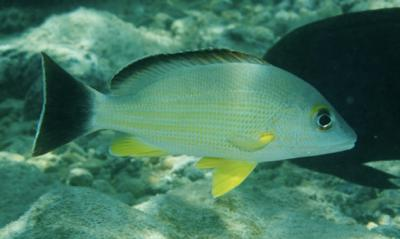Lutjanidae -Snappers-: (28, 43, 359, 204)
